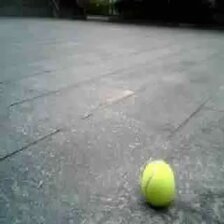tennis: (142, 162, 175, 202)
